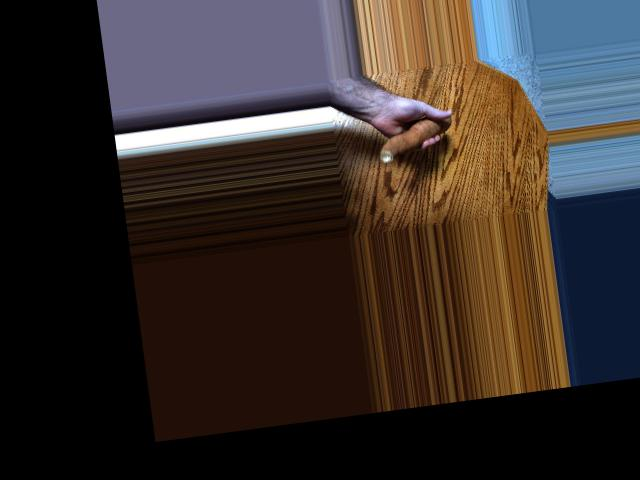sweet_potato: (371, 112, 454, 162)
